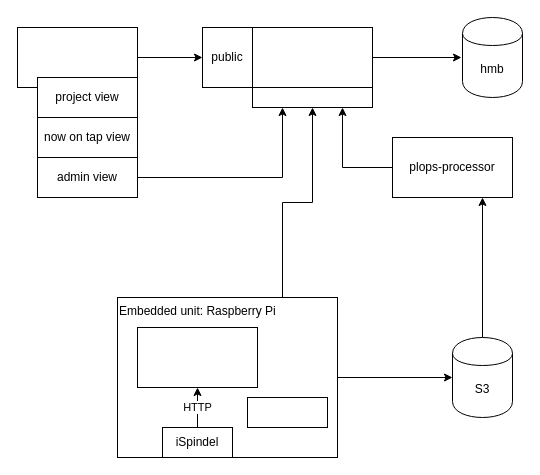
Image size: 540x475. Some labels were removed from this diagram. The shapes that lost their labels are listed below. From the top down, each one's box as (x1, y1, x2, y2) in pixels, then its label:
(16, 26, 138, 88): hold-my-beer front end
(252, 26, 372, 88): hold-my-beer api
(252, 86, 372, 108): admin
(136, 326, 258, 388): raspi-chill
(246, 396, 328, 428): microphone
